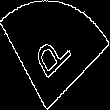P_SW: (31, 24, 79, 86)
